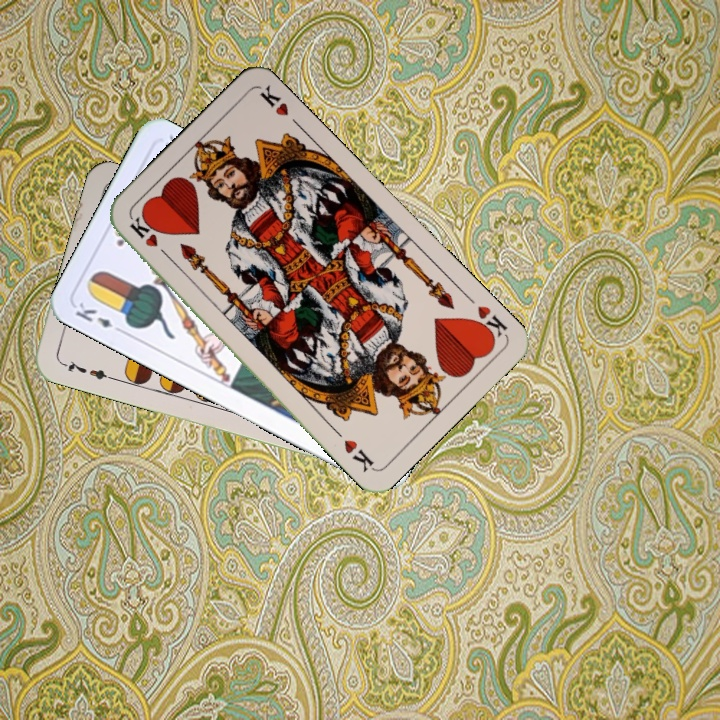E7: (58, 356, 116, 383)
EK: (71, 298, 127, 337)
HK: (125, 212, 173, 262), (468, 301, 510, 345)
